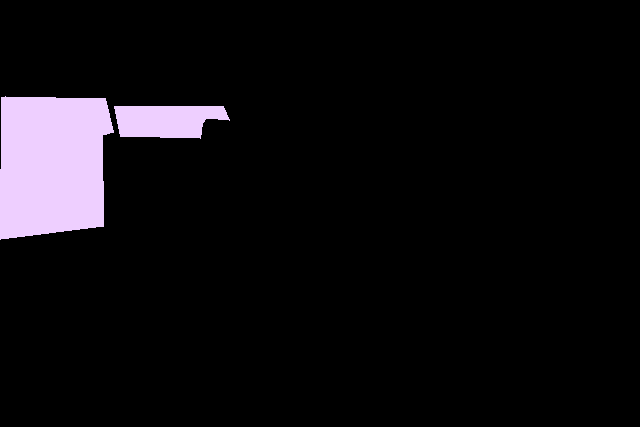Train: (0, 96, 229, 239)
